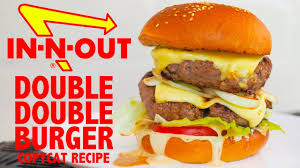hamburger: (134, 1, 276, 164)
